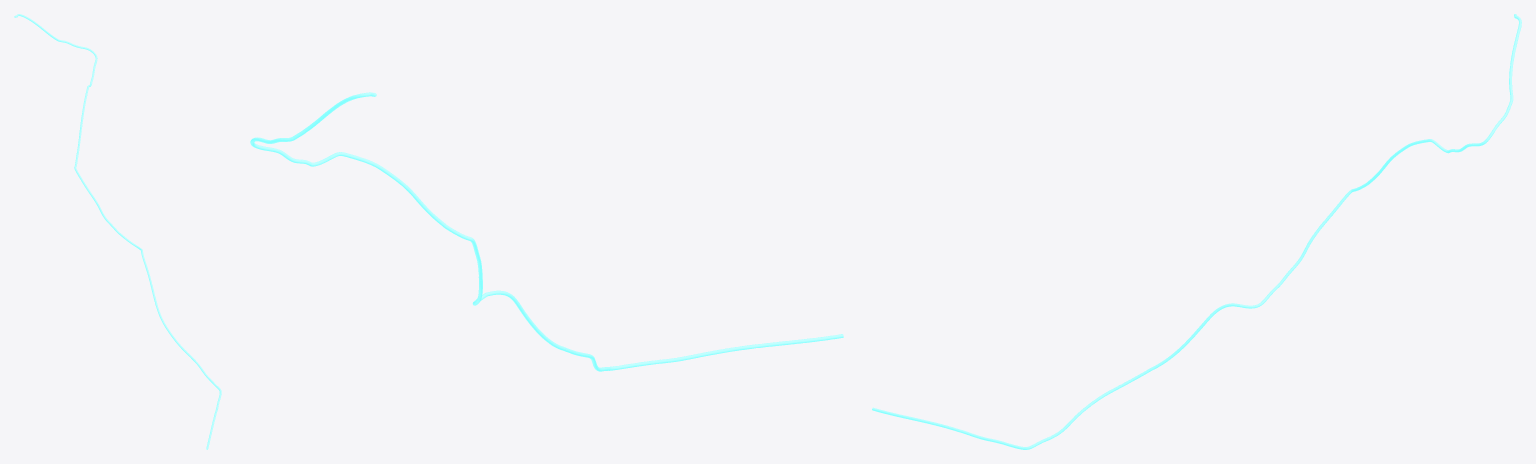
Rendered from route_cesen.glb.
3 renders of one model, left to right at view 1: azimuth 30°, elevation 25°; view 2: azimuth 150°, elevation 25°; view 3: azimuth 270°, elevation 25°, orthographic. The views are drawn at different scales.
Visible parts, largest first — view 1: Route_Cesen; view 2: Route_Cesen; view 3: Route_Cesen.
Part boxes in pixels (<box>): Route_Cesen: <box>14,14,221,449</box>; Route_Cesen: <box>250,92,843,371</box>; Route_Cesen: <box>872,14,1521,449</box>.
Bounding box in the file's own units: 1300 × 3632 × 5192.
